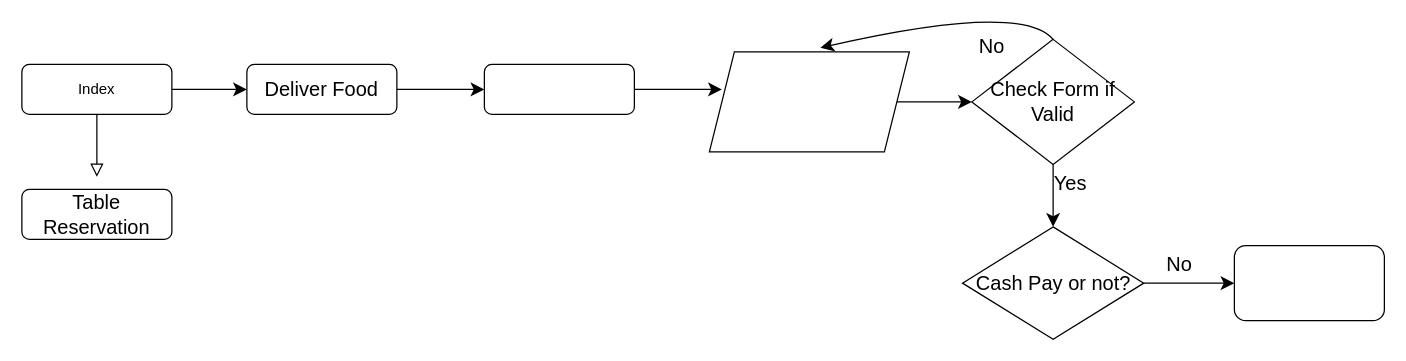
This 1406x361 diagram has some shape labels left out. Here are the shapes that lost their labels. From the top down, the box of each, then its label:
(483, 63, 634, 114): Menu
(708, 51, 909, 152): Full address Full Name Contact #: Facebook || IG id
(1233, 244, 1384, 321): Show Receipt
